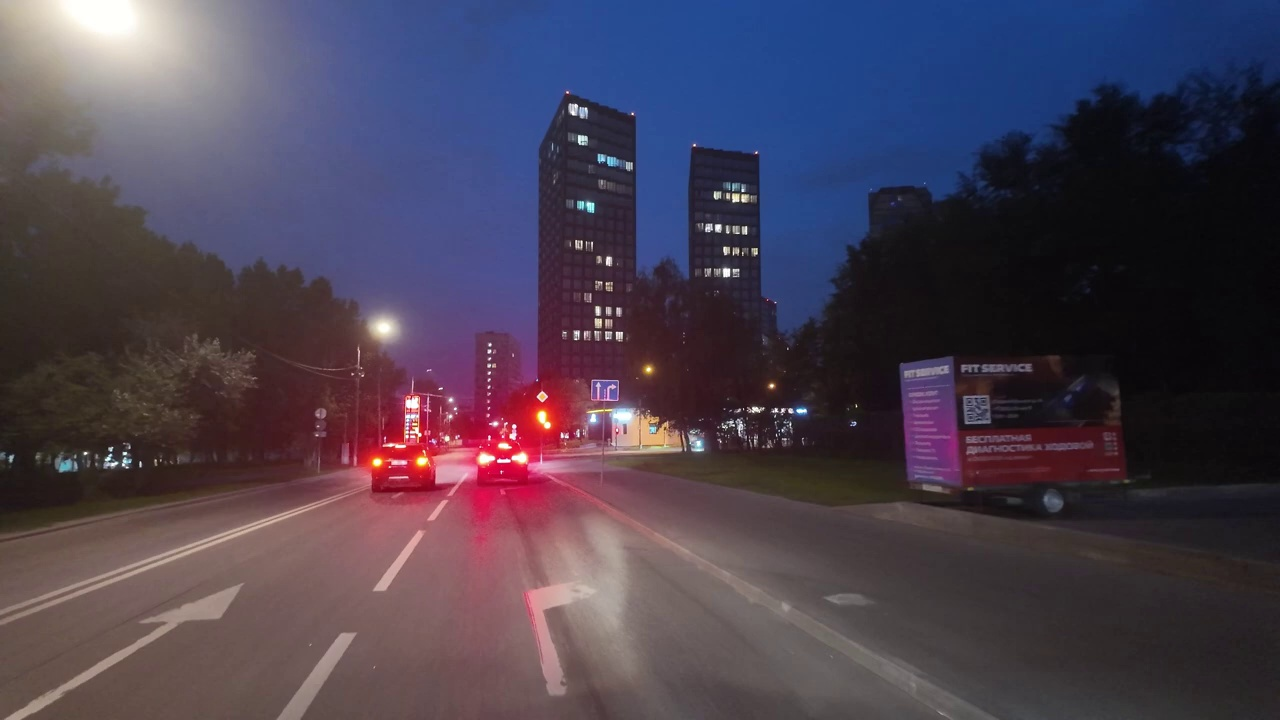acesa: (46, 4, 149, 52), (366, 312, 399, 343)
